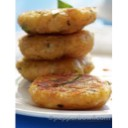cutlet: (27, 78, 111, 110), (18, 35, 100, 59), (16, 9, 97, 31), (13, 61, 97, 76)
